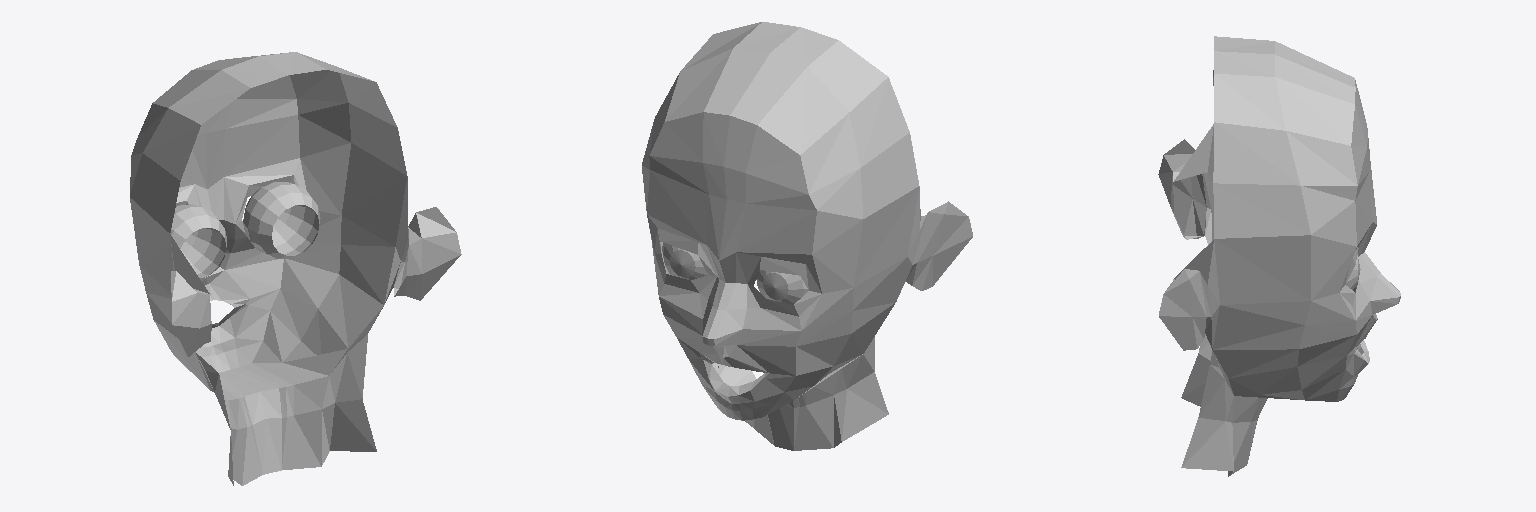
Rendered from openmouth.obj.
3 renders of one model, left to right at view 1: azimuth 30°, elevation 25°; view 2: azimuth 150°, elevation 25°; view 3: azimuth 270°, elevation 25°, orthographic.
Visible parts, largest first — view 1: body_Cylinder.003; view 2: body_Cylinder.003; view 3: body_Cylinder.003.
Boxes of the visible parts, <box> form: body_Cylinder.003: <box>130,52,461,485</box>; body_Cylinder.003: <box>642,22,972,450</box>; body_Cylinder.003: <box>1158,36,1400,476</box>.
Bounding box in the file's own units: 139 × 188 × 101.